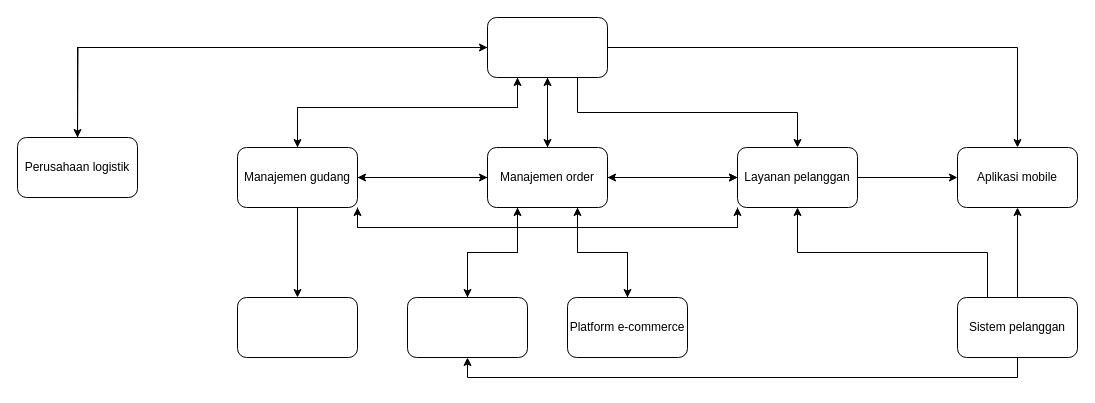
Image size: 1095x403. Some labels were removed from this diagram. The box of each missing label's shape, as (x1, y1, x2, y2) in pixels:
Manajemen pengiriman: (486, 16, 608, 78)
Sistem keuangan: (236, 296, 358, 358)
Sistem pembayaran: (406, 296, 528, 358)
